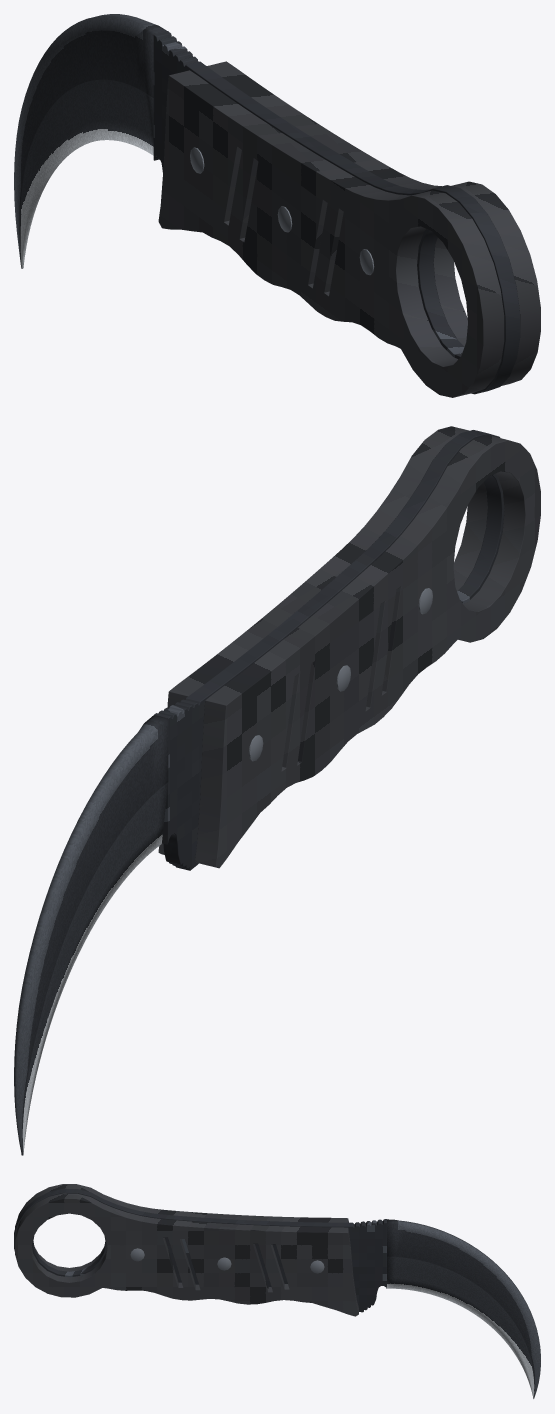
The model's file is w_knife_karambit.glb.
The picture shows the model from 3 angles, top to bottom: view 1: azimuth 30°, elevation 25°; view 2: azimuth 150°, elevation 25°; view 3: azimuth 270°, elevation 25°; orthographic projection. The views are drawn at different scales.
Visible parts, largest first — view 1: kkarambit_scales_wzA, kkarambit_steel_wzB, kkarambit_screws_wzN; view 2: kkarambit_scales_wzA, kkarambit_steel_wzB, kkarambit_screws_wzN; view 3: kkarambit_scales_wzA, kkarambit_steel_wzB, kkarambit_screws_wzN.
Part boxes in pixels (x1=…): kkarambit_scales_wzA: x1=158, y1=61, x2=540, y2=397; kkarambit_steel_wzB: x1=14, y1=14, x2=520, y2=394; kkarambit_screws_wzN: x1=190, y1=147, x2=374, y2=275; kkarambit_scales_wzA: x1=158, y1=426, x2=540, y2=868; kkarambit_steel_wzB: x1=14, y1=430, x2=504, y2=1155; kkarambit_screws_wzN: x1=249, y1=588, x2=432, y2=761; kkarambit_scales_wzA: x1=15, y1=1184, x2=358, y2=1316; kkarambit_steel_wzB: x1=14, y1=1188, x2=540, y2=1398; kkarambit_screws_wzN: x1=130, y1=1248, x2=324, y2=1273.
Size of the model in its own units: 0.0126 by 0.0744 by 0.17.
Materials: 4 (4 with a texture image).
